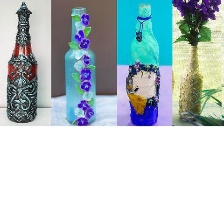bottle: (123, 1, 167, 125), (60, 5, 102, 129), (3, 0, 44, 124), (175, 41, 209, 122)
